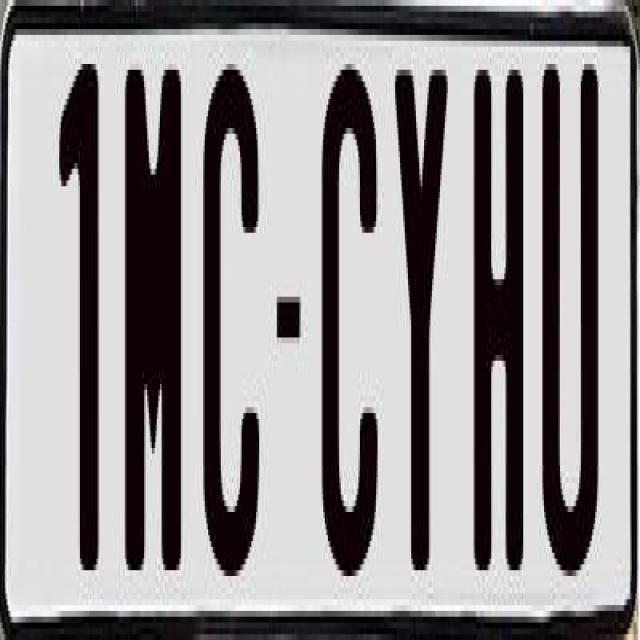1: (56, 64, 106, 576)
C: (203, 58, 266, 599), (316, 46, 374, 558)
H: (472, 70, 528, 576)
M: (123, 70, 184, 600)
U: (542, 52, 598, 564)
Y: (394, 58, 446, 576)
